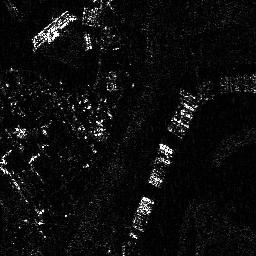ship: (149, 142, 173, 189)
